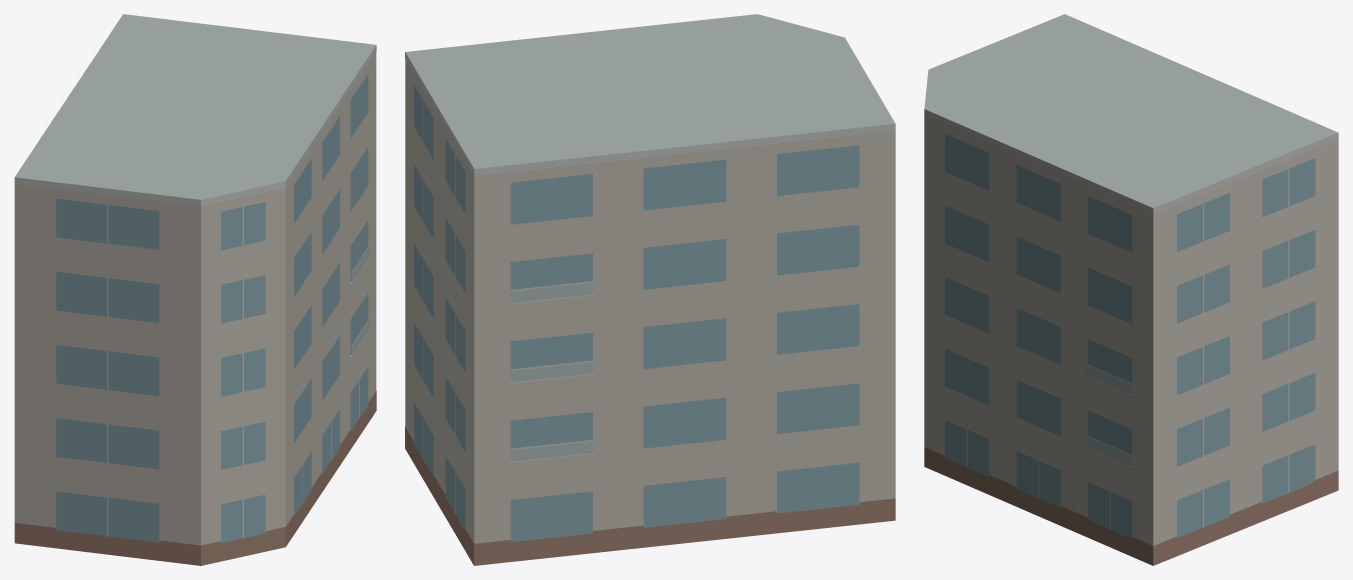
Rendered from survey-upis-32848953.glb.
3 views of the same model, side by side, from view 1: azimuth 30°, elevation 25°; view 2: azimuth 150°, elevation 25°; view 3: azimuth 270°, elevation 25° (orthographic). The views are drawn at different scales.
Parts seen in each view (by area): view 1: survey-upis-32848953.tmp; view 2: survey-upis-32848953.tmp; view 3: survey-upis-32848953.tmp.
Part boxes in pixels (box(x1,y1,x2,y2)): survey-upis-32848953.tmp: box(14, 14, 376, 565); survey-upis-32848953.tmp: box(405, 14, 895, 565); survey-upis-32848953.tmp: box(924, 14, 1338, 565).
Bounding box in the file's own units: 15.72 × 13.5 × 14.18.
